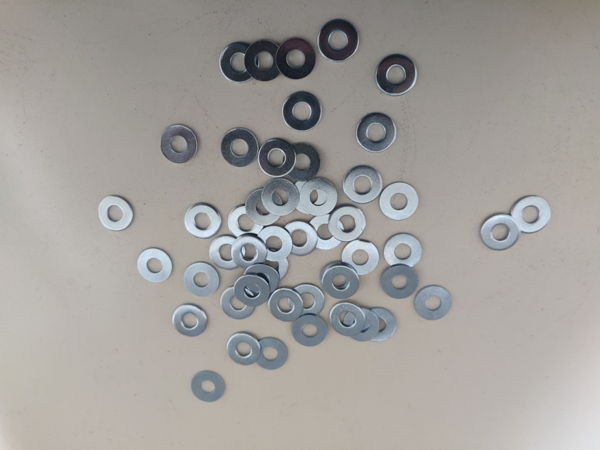circle: (376, 54, 418, 96), (318, 19, 359, 62), (276, 38, 316, 80), (357, 113, 397, 153), (220, 42, 259, 83), (510, 196, 552, 234), (283, 92, 322, 132), (245, 40, 282, 82), (379, 183, 419, 221), (344, 166, 383, 204), (480, 214, 520, 251), (220, 129, 258, 167), (283, 144, 321, 182), (245, 188, 283, 226), (161, 125, 198, 164), (258, 139, 295, 178), (300, 178, 337, 216), (184, 203, 221, 240), (262, 179, 299, 216), (98, 195, 134, 232), (307, 214, 344, 250), (380, 265, 418, 300), (342, 240, 380, 275), (384, 234, 423, 268), (329, 206, 365, 242), (228, 204, 264, 240), (252, 249, 289, 284), (137, 248, 173, 283), (283, 221, 318, 257), (269, 287, 304, 323), (257, 227, 293, 262), (231, 234, 267, 269), (210, 236, 246, 271), (415, 286, 452, 320), (184, 262, 219, 297), (221, 286, 257, 320), (323, 267, 360, 300), (321, 263, 358, 296), (293, 182, 330, 215), (363, 307, 397, 342), (344, 307, 379, 341), (330, 302, 365, 336), (289, 285, 325, 318), (234, 275, 271, 307), (254, 338, 289, 371), (292, 315, 327, 348), (227, 333, 261, 366), (244, 265, 280, 296), (173, 305, 207, 337), (192, 371, 225, 403)
